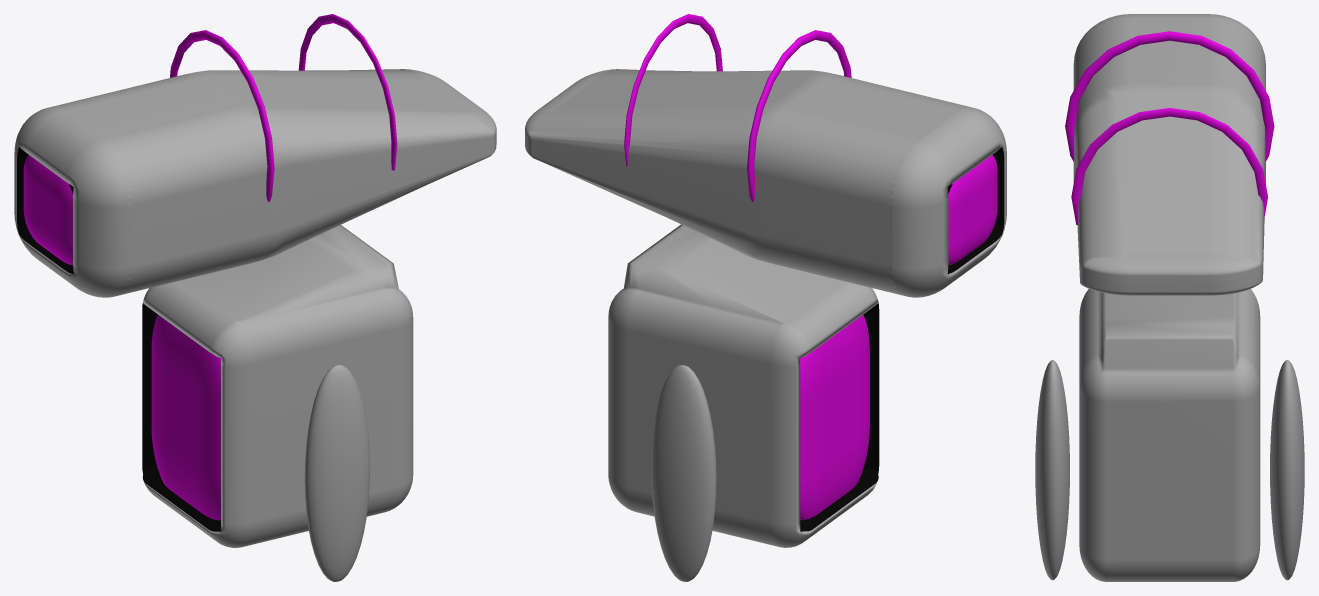
File: SM_BOAR.fbx
The picture shows the model from 3 angles, left to right: view 1: azimuth 30°, elevation 25°; view 2: azimuth 150°, elevation 25°; view 3: azimuth 270°, elevation 25°; orthographic projection.
Parts seen in each view (by area): view 1: SM_Head, SM_Body, SM_RightArm; view 2: SM_Head, SM_Body, SM_LeftArm; view 3: SM_Head, SM_Body, SM_RightArm, SM_LeftArm.
Boxes of the visible parts, bbox=[...] form: SM_Head: bbox=[14, 14, 496, 297]; SM_Body: bbox=[142, 225, 413, 547]; SM_RightArm: bbox=[304, 365, 369, 581]; SM_Head: bbox=[525, 14, 1006, 297]; SM_Body: bbox=[608, 224, 879, 547]; SM_LeftArm: bbox=[651, 365, 716, 581]; SM_Head: bbox=[1065, 14, 1274, 295]; SM_Body: bbox=[1079, 289, 1260, 581]; SM_RightArm: bbox=[1035, 360, 1069, 580]; SM_LeftArm: bbox=[1270, 360, 1304, 580].
Size of the model in its own units: 6.21 by 7.25 by 3.41.
